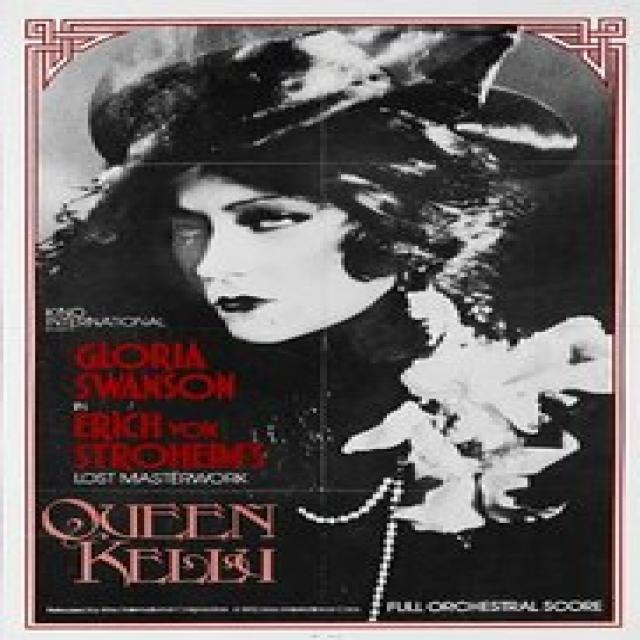movie-judul: (38, 306, 288, 601)
picture: (54, 64, 593, 298)
